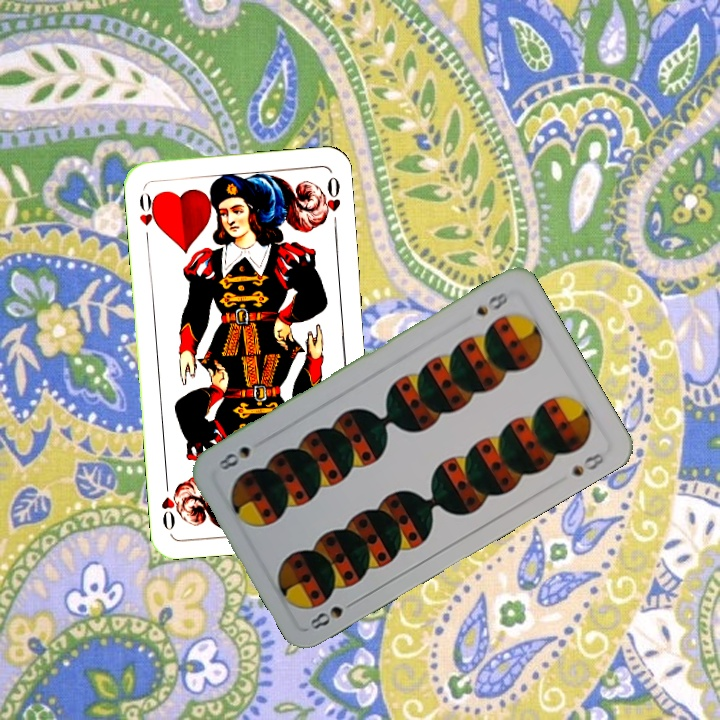HO: (135, 189, 161, 244)
S8: (305, 593, 360, 632), (471, 286, 513, 319)
